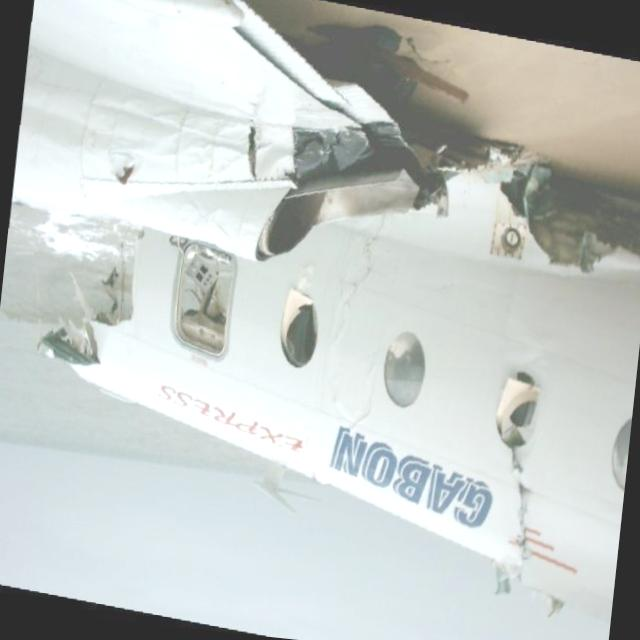crack: (336, 208, 388, 312), (502, 441, 538, 567), (341, 362, 378, 434), (240, 120, 264, 176)
